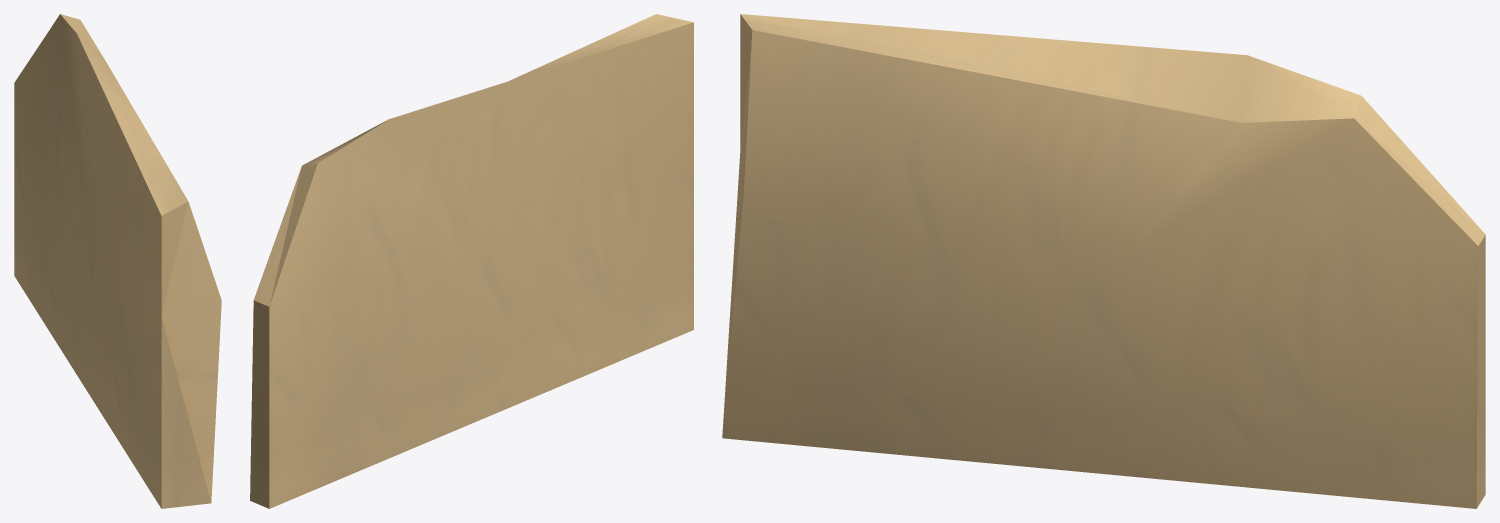
The model's file is WallA.FBX.
3 views of the same model, side by side, from view 1: azimuth 30°, elevation 25°; view 2: azimuth 150°, elevation 25°; view 3: azimuth 270°, elevation 25° (orthographic). The views are drawn at different scales.
Visible parts, largest first — view 1: WallA; view 2: WallA; view 3: WallA.
Boxes of the visible parts, bbox=[...] form: WallA: bbox=[14, 14, 221, 508]; WallA: bbox=[250, 14, 693, 508]; WallA: bbox=[722, 14, 1485, 508].
Bounding box in the file's own units: 8.18 × 26.61 × 16.25.
1 material, 1 textured.
